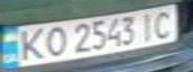2: (69, 20, 93, 54)
3: (118, 12, 142, 46)
4: (106, 15, 127, 47)
5: (90, 17, 112, 52)
C: (148, 7, 181, 38)
I: (136, 10, 160, 42)
K: (9, 25, 51, 62)
O: (36, 24, 72, 57)
